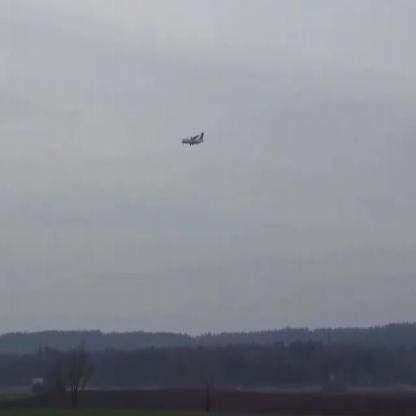CIV_Plane: (181, 132, 203, 148)
